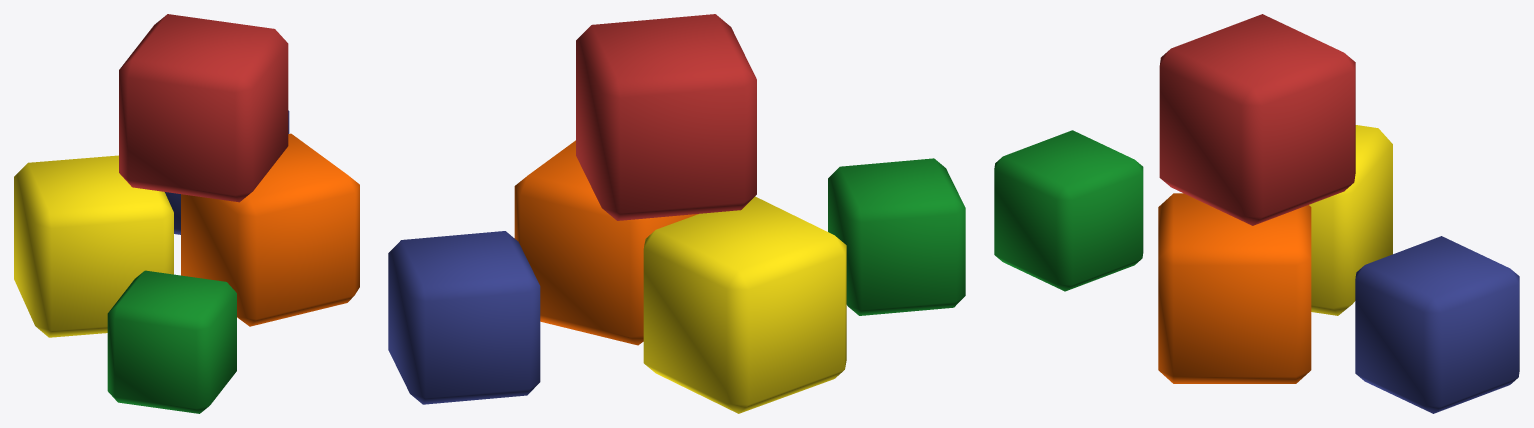
File: bauklötze .fbx
3 views of the same model, side by side, from view 1: azimuth 30°, elevation 25°; view 2: azimuth 150°, elevation 25°; view 3: azimuth 270°, elevation 25° (orthographic). The views are drawn at different scales.
Visible parts, largest first — view 1: Cube.017; view 2: Cube.017; view 3: Cube.017.
Boxes of the visible parts, x1,y1,x2,y2 form: Cube.017: (14, 14, 359, 413); Cube.017: (388, 14, 965, 413); Cube.017: (994, 14, 1519, 413).
Bounding box in the file's own units: 139 × 101 × 172.
